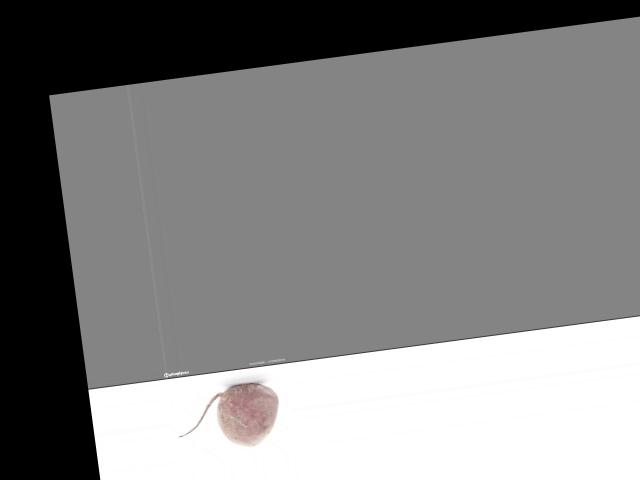beet: (173, 379, 284, 454)
